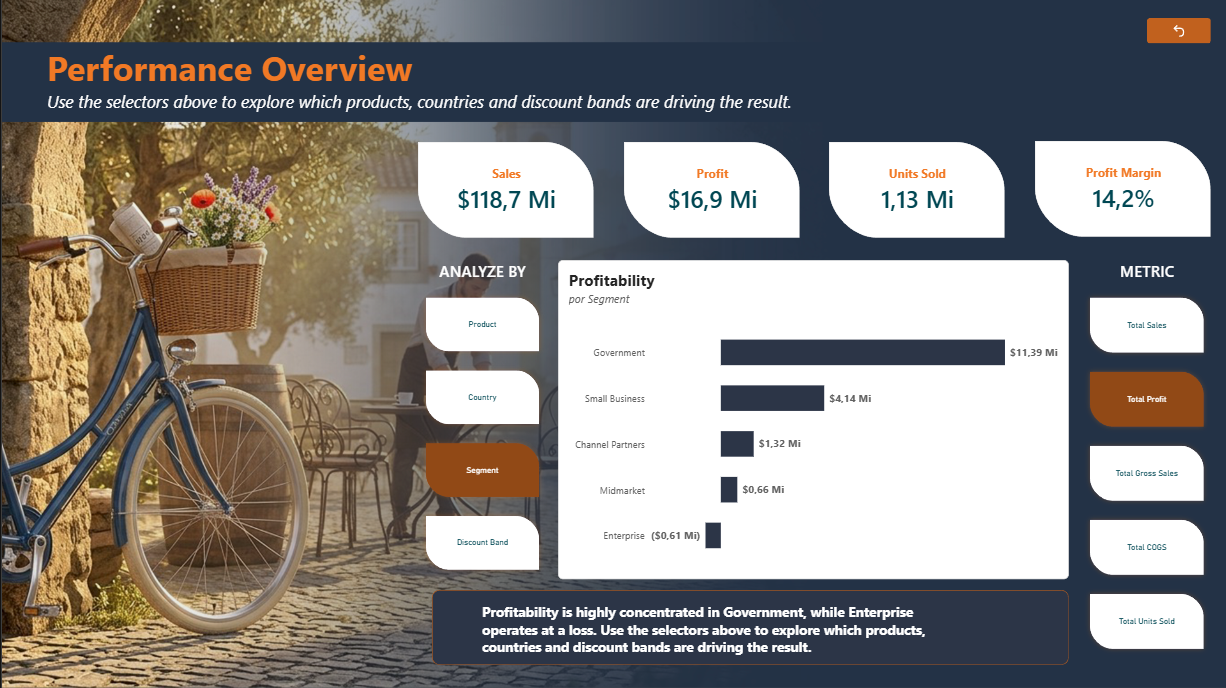

Layout of this report page (visuals, bound fields, positions):
{"tool":"powerbi","page":{"name":"Executive Overview","canvas":[1920,1080],"ordinal":0},"visuals":[{"type":"shape","box":[673.8,924.4,997.3,117.3],"z":0},{"type":"clusteredBarChart","title":"Profitability","fields":{"Category":["dim_Segment.Segment"],"Y":["financials.Total Profit"]},"box":[871.1,407.1,800,500],"z":1000},{"type":"advancedSlicerVisual","title":"ANALYZE BY","fields":{"Values":["p_category.p_category"]},"box":[652.4,407.1,199.1,499.6],"z":2000},{"type":"advancedSlicerVisual","title":"METRIC","fields":{"Values":["p_financials.p_financials"]},"box":[1692.4,407.1,200.9,622.2],"z":3000},{"type":"textbox","box":[71.1,69.3,602.7,92.4],"z":4000},{"type":"textbox","box":[71.1,138.7,1315.6,46.2],"z":5000},{"type":"cardVisual","fields":{"Data":["financials.Total Units Sold"]},"box":[1295.9,222.2,275,150],"z":6000},{"type":"cardVisual","fields":{"Data":["financials.Total Sales"]},"box":[652.1,222.1,275,150],"z":7000},{"type":"cardVisual","fields":{"Data":["financials.Total Profit"]},"box":[974,222.1,275,150],"z":8000},{"type":"cardVisual","fields":{"Data":["financials.Profit Margin"]},"box":[1617.8,220.4,275,150],"z":9000},{"type":"textbox","box":[752,942.2,766.2,87.1],"z":10000},{"type":"actionButton","box":[1793.8,28.4,100,40],"z":11000}]}

Visuals, with their boxes in screenshot pixels (x1, y1, x2, y2), scaled from the page's 1920x1080 canvas onto the 1226x688 screenshot:
shape: left=430, top=589, right=1067, bottom=664
"Profitability" clusteredBarChart: left=556, top=259, right=1067, bottom=578
"ANALYZE BY" advancedSlicerVisual: left=417, top=259, right=544, bottom=578
"METRIC" advancedSlicerVisual: left=1081, top=259, right=1209, bottom=656
textbox: left=45, top=44, right=430, bottom=103
textbox: left=45, top=88, right=885, bottom=118
cardVisual - financials.Total Units Sold: left=827, top=142, right=1003, bottom=237
cardVisual - financials.Total Sales: left=416, top=141, right=592, bottom=237
cardVisual - financials.Total Profit: left=622, top=141, right=798, bottom=237
cardVisual - financials.Profit Margin: left=1033, top=140, right=1209, bottom=236
textbox: left=480, top=600, right=969, bottom=656
actionButton: left=1145, top=18, right=1209, bottom=44
